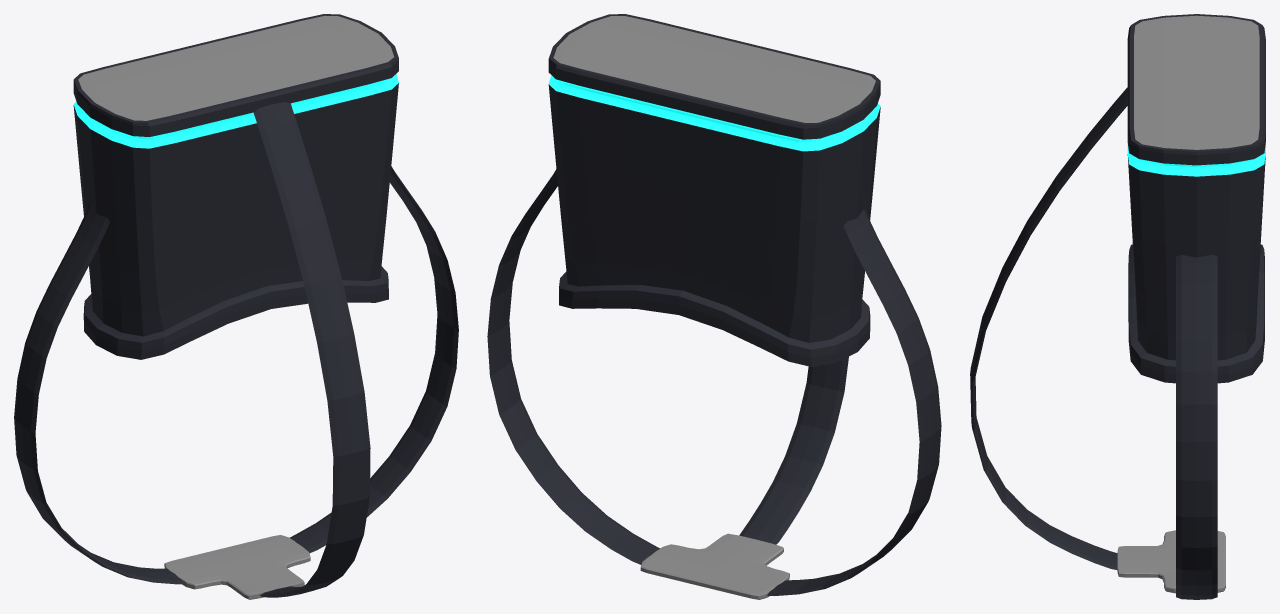
File: brille.glb
3 views of the same model, side by side, from view 1: azimuth 30°, elevation 25°; view 2: azimuth 150°, elevation 25°; view 3: azimuth 270°, elevation 25° (orthographic). The views are drawn at different scales.
Visible parts, largest first — view 1: Brille; view 2: Brille; view 3: Brille.
Part boxes in pixels (x1,y1,x2,y2): Brille: [14, 14, 458, 599]; Brille: [487, 14, 941, 599]; Brille: [970, 14, 1265, 599].
Size of the model in its own units: 7.84 by 8.68 by 4.83.
